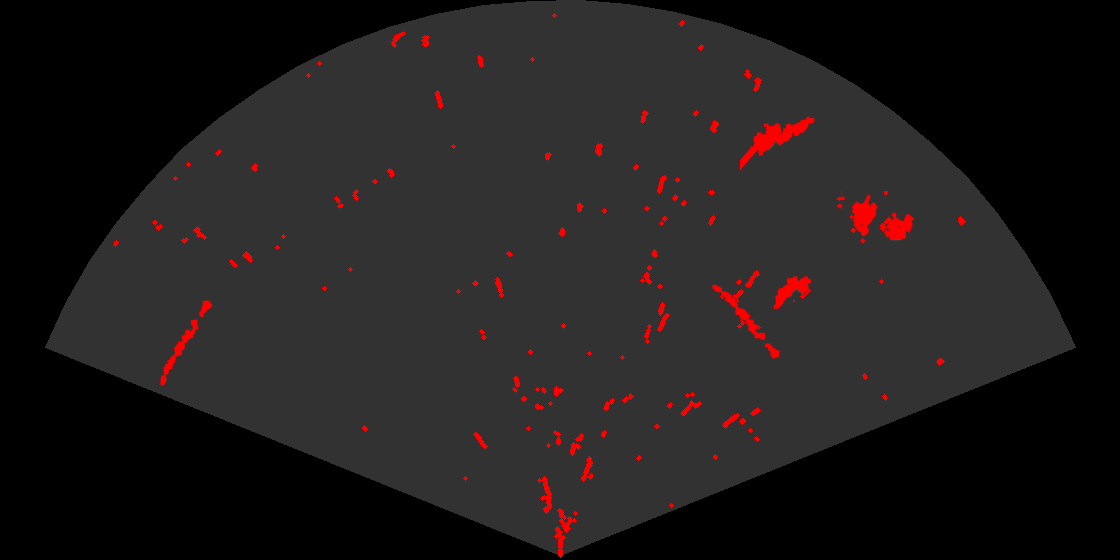AUV: (772, 274, 813, 311)
cage: (837, 191, 916, 245)
chain: (711, 283, 781, 361), (159, 299, 214, 388)
frogman: (740, 115, 816, 172)
